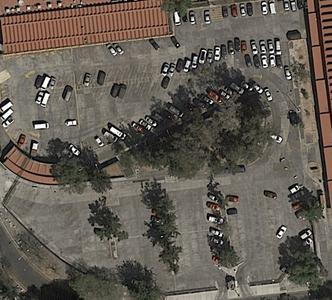parkingspot: (1, 78, 277, 163), (36, 37, 283, 92), (33, 54, 246, 108), (1, 36, 183, 70), (287, 182, 317, 275), (202, 195, 226, 268), (222, 0, 305, 21), (224, 193, 247, 262), (172, 7, 213, 32)
